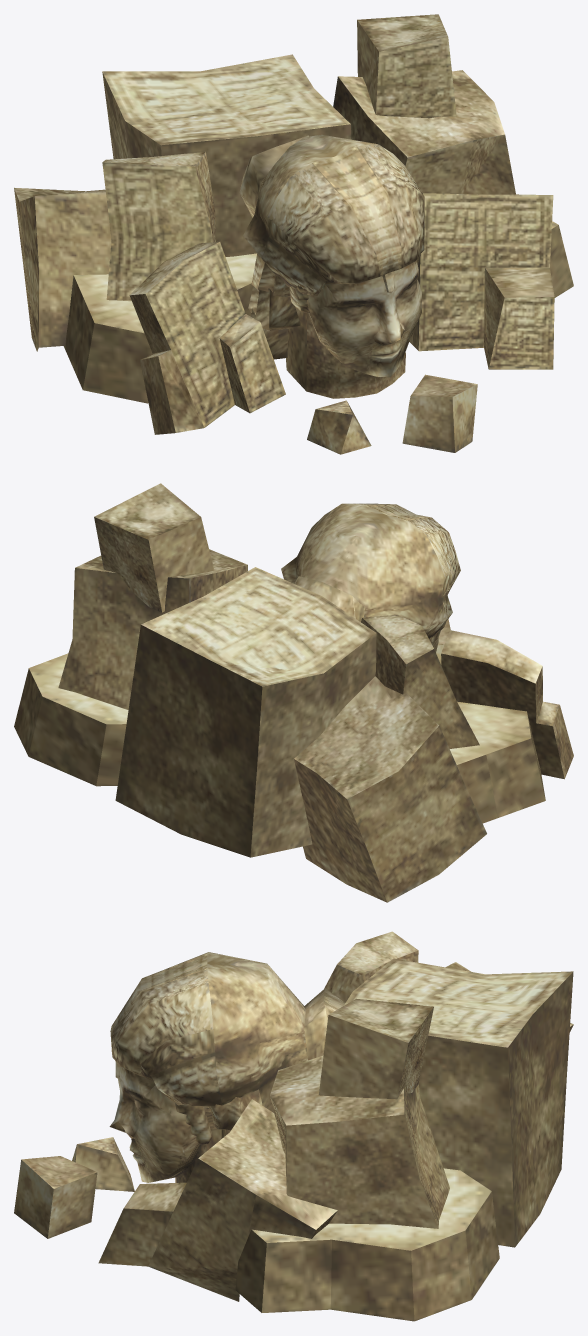
Rendered from ob-bigstatue01.fbx.
3 renders of one model, top to bottom at view 1: azimuth 30°, elevation 25°; view 2: azimuth 150°, elevation 25°; view 3: azimuth 270°, elevation 25°, orthographic. The views are drawn at different scales.
Parts seen in each view (by area): view 1: Box01; view 2: Box01; view 3: Box01.
Part boxes in pixels (x1,y1,x2,y2): Box01: [14, 14, 573, 454]; Box01: [14, 483, 573, 902]; Box01: [14, 931, 573, 1321].
Size of the model in its own units: 11.2 by 6.4 by 10.85.
